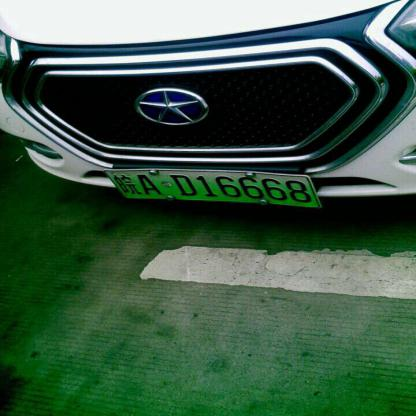lp: (104, 169, 320, 207)
